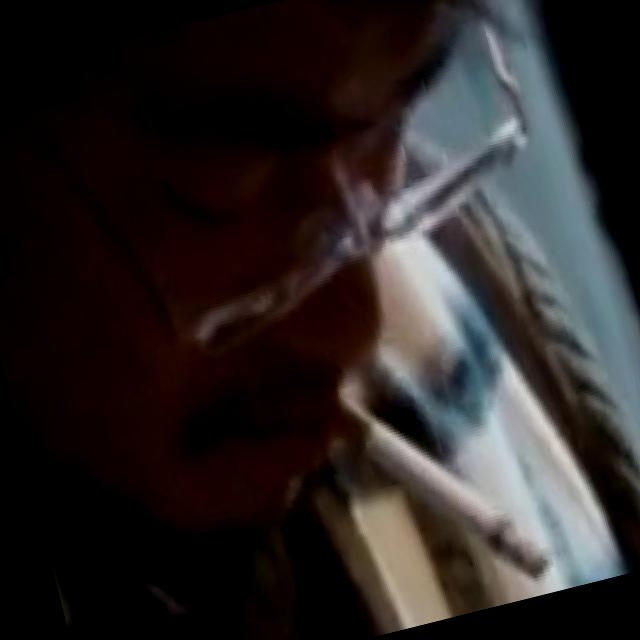smoke: (324, 358, 562, 608)
